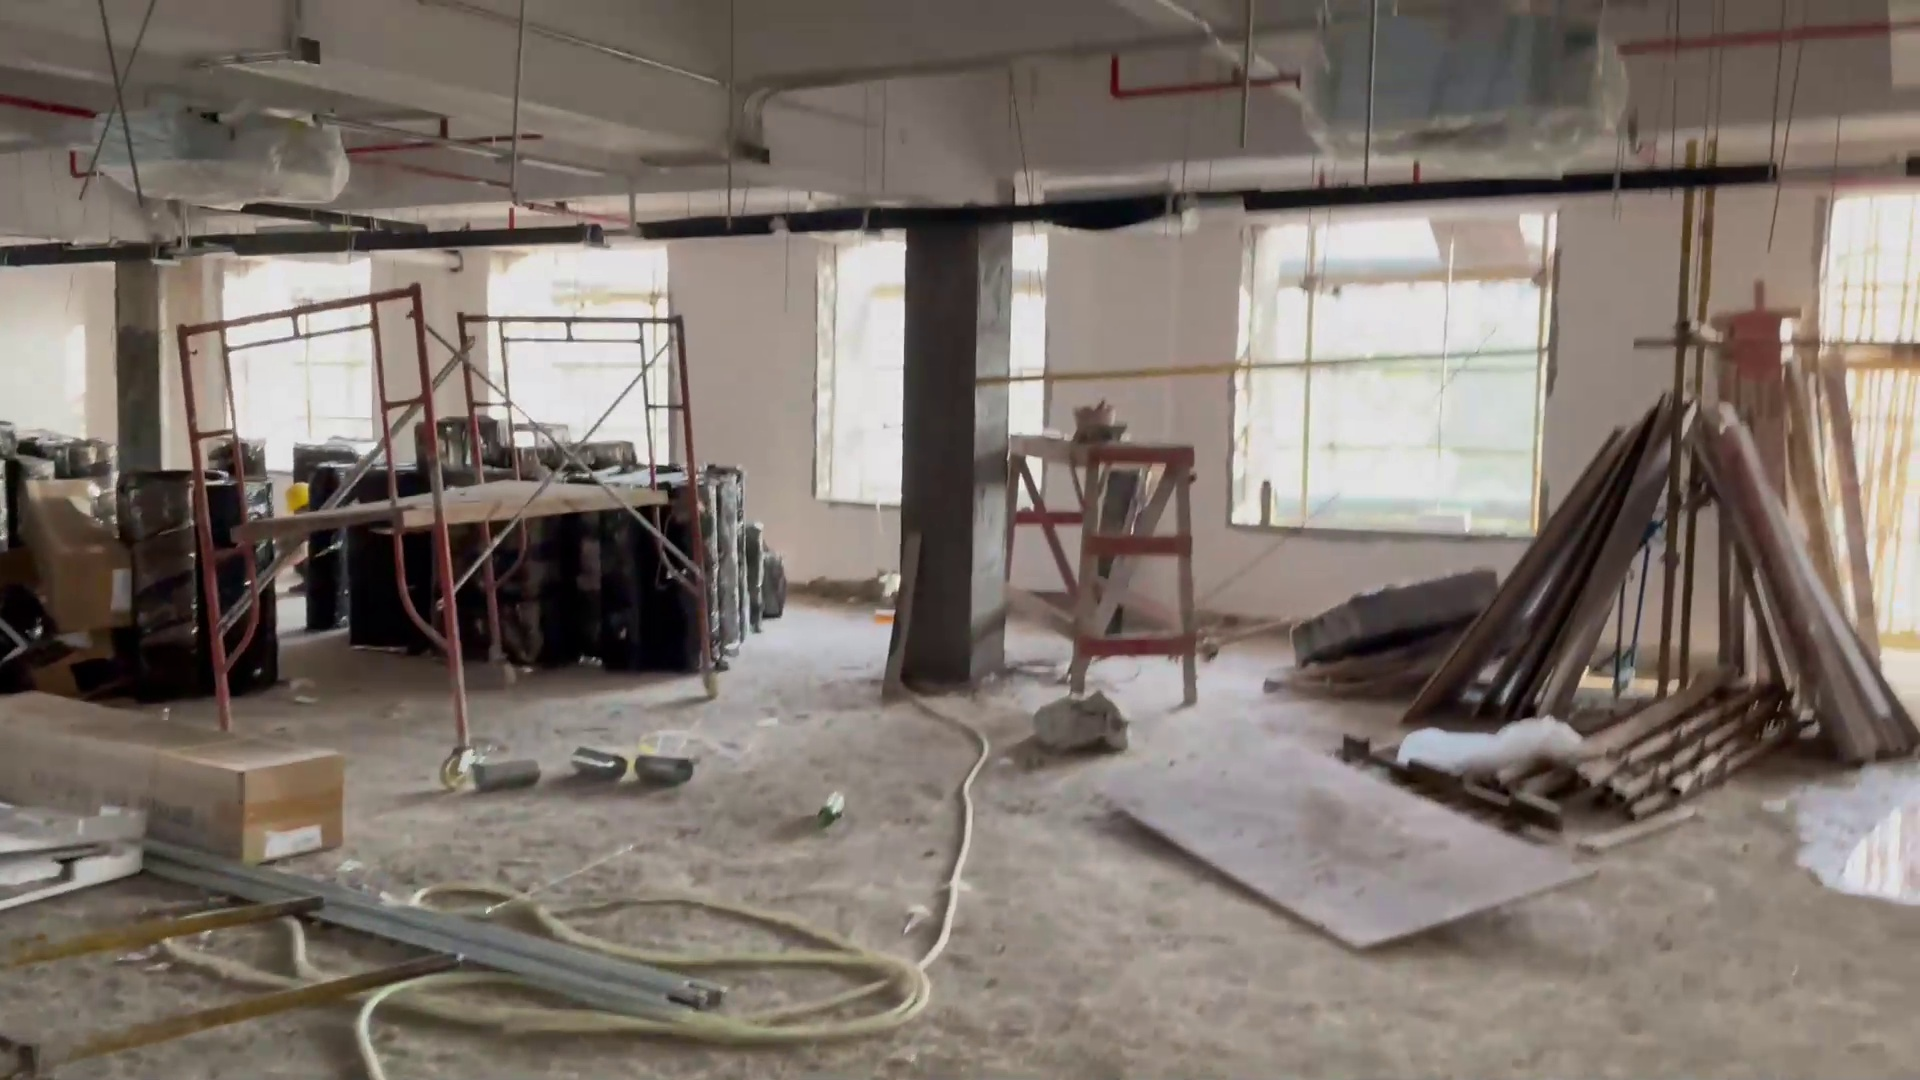board: (1385, 380, 1671, 723), (1698, 401, 1898, 744)
helmet: (281, 479, 315, 509)
